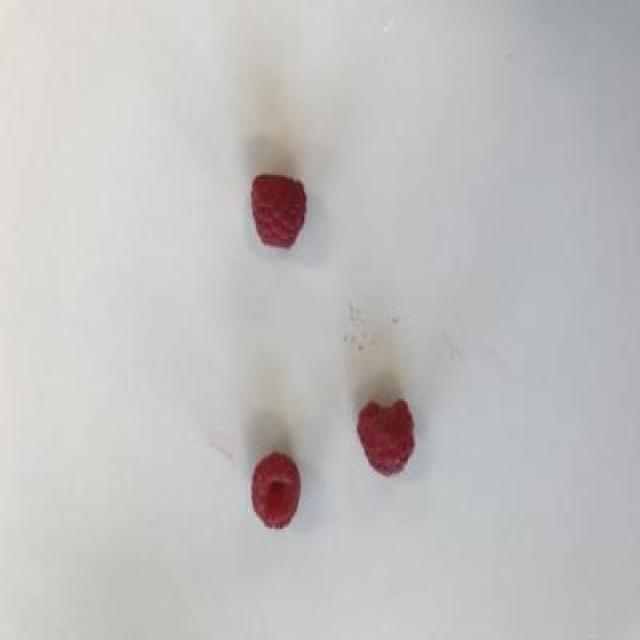compost: (244, 181, 424, 542)
